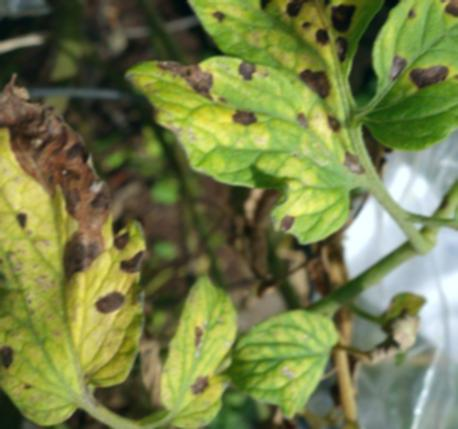Tomato leaf bacterial spot: (0, 56, 143, 429), (125, 53, 376, 240), (357, 0, 458, 153), (152, 280, 240, 429), (231, 311, 342, 418)
